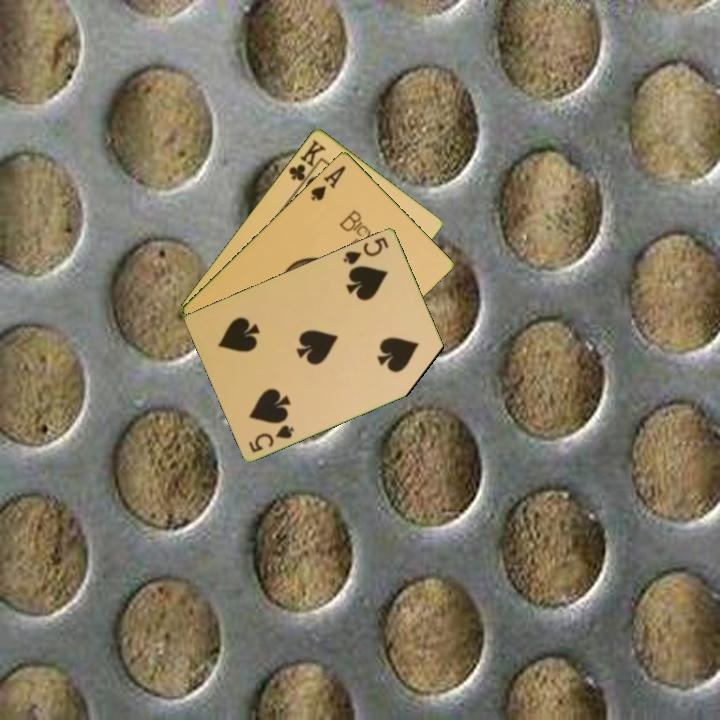5s: (340, 233, 392, 267), (245, 421, 297, 455)
As: (307, 162, 349, 204)
Kc: (285, 136, 329, 189)
